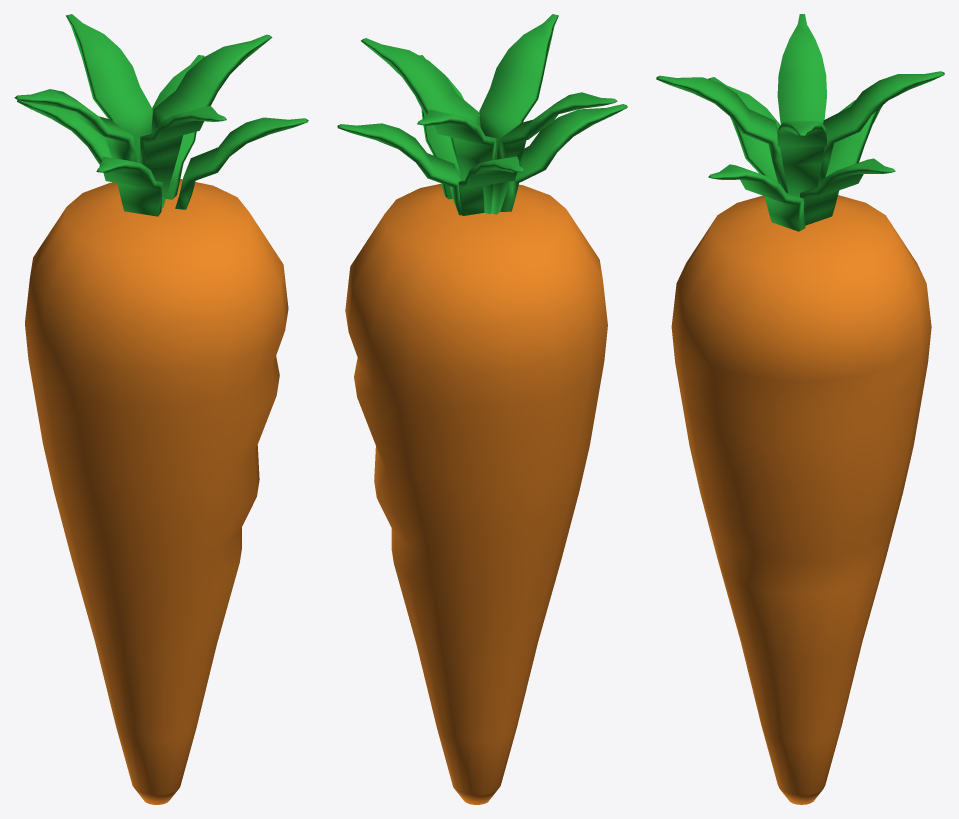
Rendered from zanahoria 1.fbx.
3 renders of one model, left to right at view 1: azimuth 30°, elevation 25°; view 2: azimuth 150°, elevation 25°; view 3: azimuth 270°, elevation 25°, orthographic. The views are drawn at different scales.
Visible parts, largest first — view 1: Cylinder; view 2: Cylinder; view 3: Cylinder.
Boxes of the visible parts, x1,y1,x2,y2 form: Cylinder: (14,14,308,804); Cylinder: (337,14,627,804); Cylinder: (656,14,944,804).
Bounding box in the file's own units: 149 × 411 × 149.
